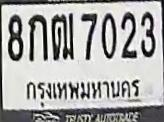0: (101, 12, 116, 59)
2: (120, 11, 136, 58)
3: (140, 11, 155, 57)
7: (80, 13, 97, 60)
8: (7, 14, 23, 60)
A01: (28, 14, 47, 61)
A18: (50, 13, 74, 60)
BKK: (23, 71, 143, 108)
